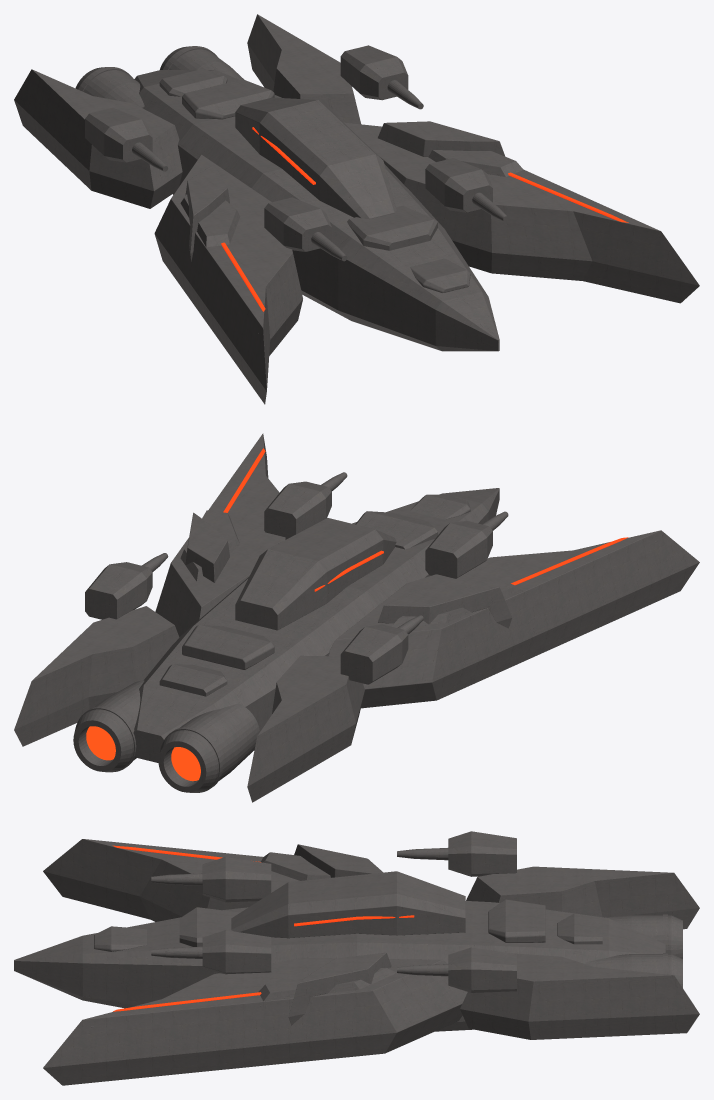
The model's file is regulatory_warship.glb.
The picture shows the model from 3 angles, top to bottom: view 1: azimuth 30°, elevation 25°; view 2: azimuth 150°, elevation 25°; view 3: azimuth 270°, elevation 25°; orthographic projection. The views are drawn at different scales.
Parts seen in each view (by area): view 1: Warship_PBR_01, Warship_PBR_00, Warship_PBR_04, Warship_PBR_02; view 2: Warship_PBR_01, Warship_PBR_00, Warship_PBR_04, Warship_PBR_03, Warship_PBR_02; view 3: Warship_PBR_01, Warship_PBR_00, Warship_PBR_04, Warship_PBR_02.
Boxes of the visible parts, box(x1,y1,x2,y2) form: Warship_PBR_01: box(14, 14, 699, 404); Warship_PBR_00: box(75, 46, 523, 333); Warship_PBR_04: box(85, 45, 492, 251); Warship_PBR_02: box(221, 127, 628, 311); Warship_PBR_01: box(14, 433, 699, 802); Warship_PBR_00: box(73, 472, 657, 792); Warship_PBR_04: box(85, 481, 492, 684); Warship_PBR_03: box(86, 726, 200, 781); Warship_PBR_02: box(223, 448, 628, 591); Warship_PBR_01: box(14, 839, 699, 1085); Warship_PBR_00: box(90, 848, 682, 1027); Warship_PBR_04: box(202, 831, 516, 992); Warship_PBR_02: box(112, 845, 414, 1011).
Bounding box in the file's own units: 81.48 × 25 × 120.
Materials: 6 (4 with a texture image).
